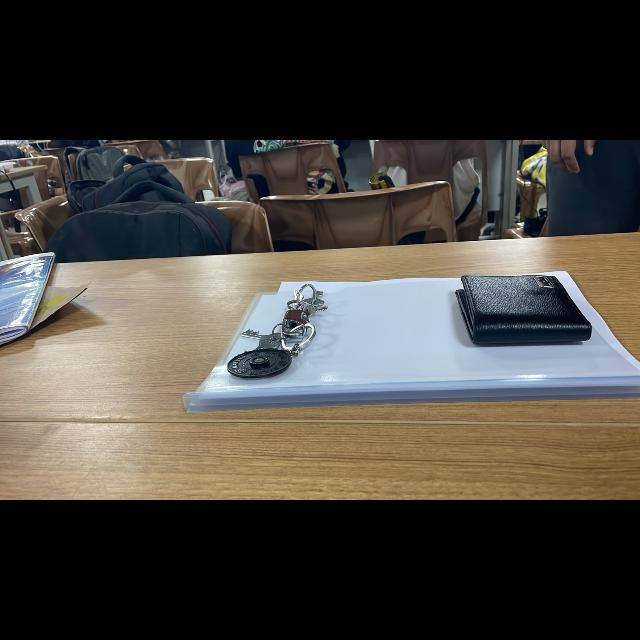keys: (224, 265, 348, 387)
wallet: (443, 260, 603, 360)
